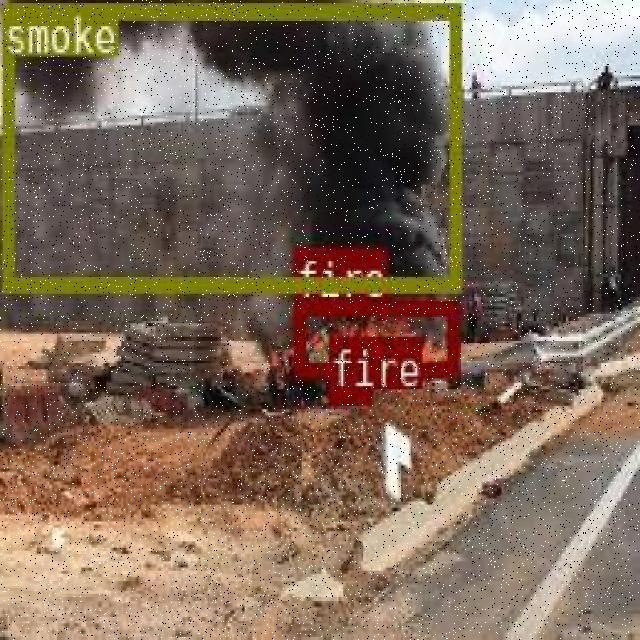Smoke: (1, 0, 460, 221)
